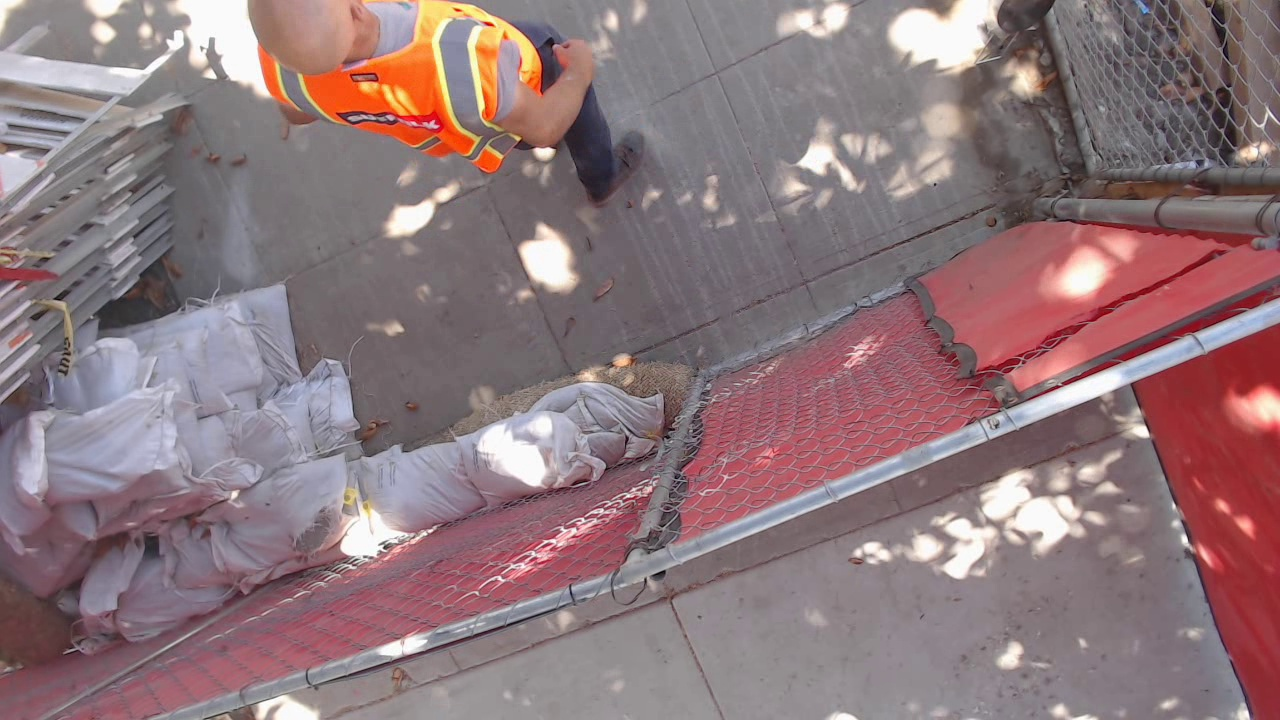hardhat: (407, 299, 555, 486)
person: (403, 282, 674, 489)
red: (452, 436, 507, 466)
safetyvest: (478, 283, 656, 469)
